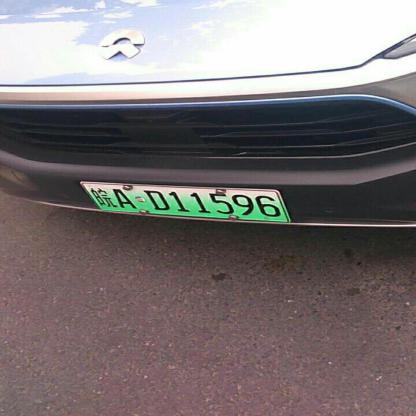lp: (82, 182, 287, 220)
